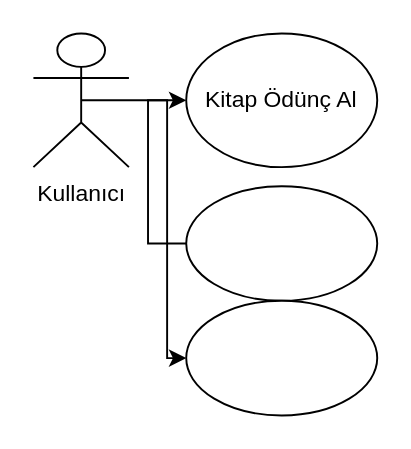
Some shapes in this 411 by 449 pixel diagram are drawn without their labels. The centre of each missing label's shape, as x and y in pixels:
"Kitap Ara" belongs at point 280,357.
"Kitap İade Et" belongs at point 280,242.
